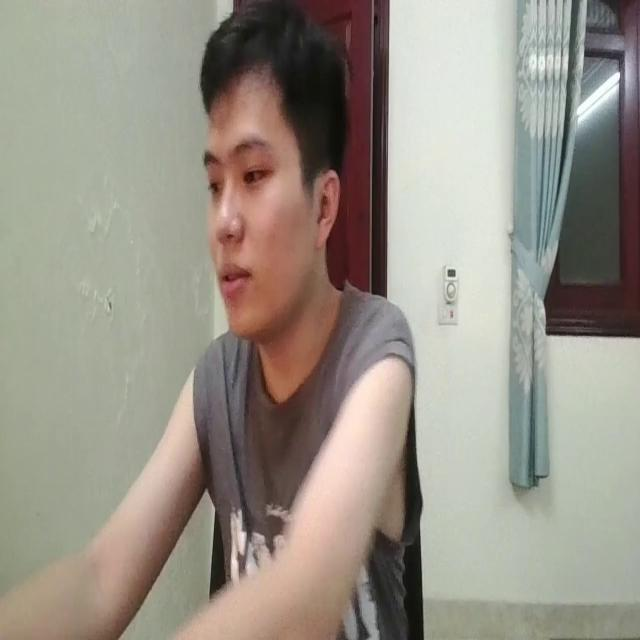student: (104, 0, 432, 640)
